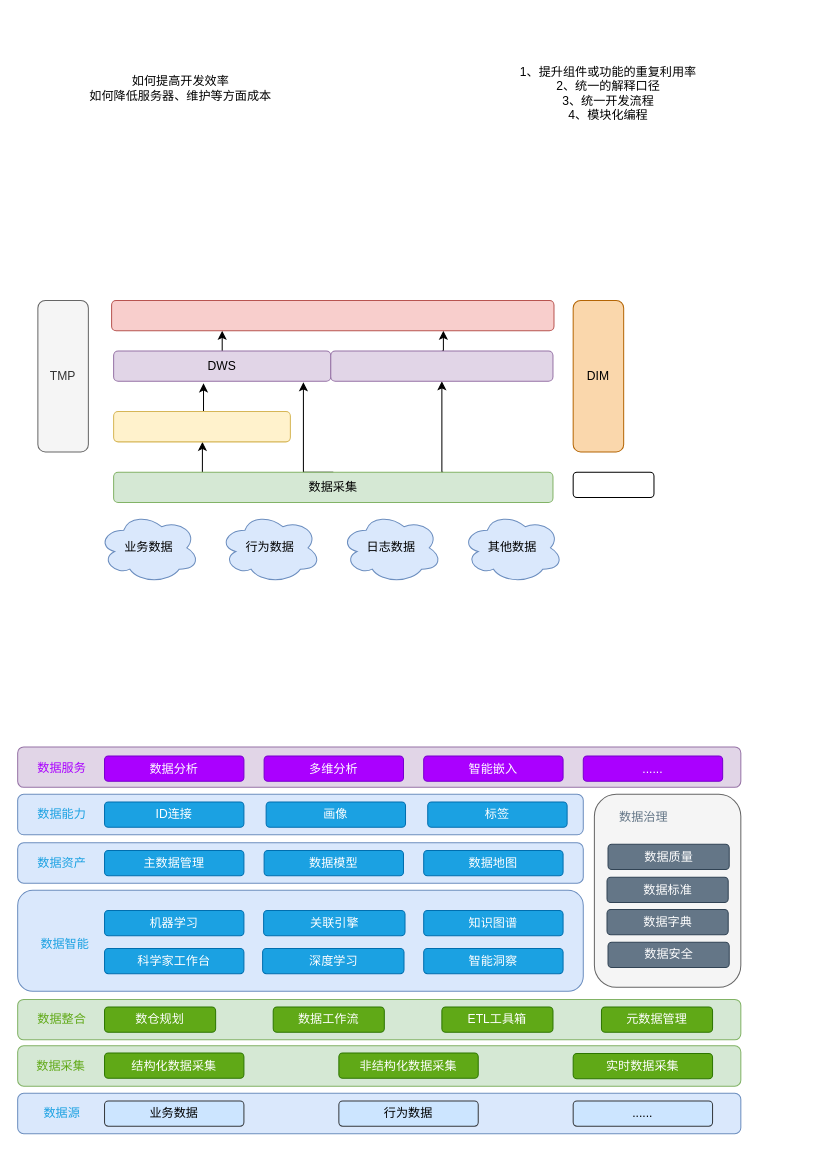
The diagram is 813 pixels wide and 1151 high, and some of its shapes have lost their labels. The shapes that lost their labels are listed below. From the top down, each one's box as (x1, y1, x2, y2) in pixels, then its label:
(111, 299, 554, 331): ADS
(330, 350, 553, 381): DWD
(113, 411, 290, 442): ODS
(572, 471, 654, 497): Metadata
